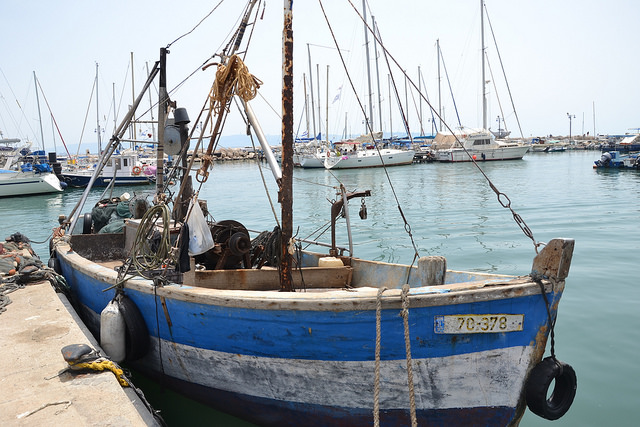boat: (429, 2, 528, 160), (322, 10, 420, 169)
fishing_boat: (49, 3, 587, 423)
